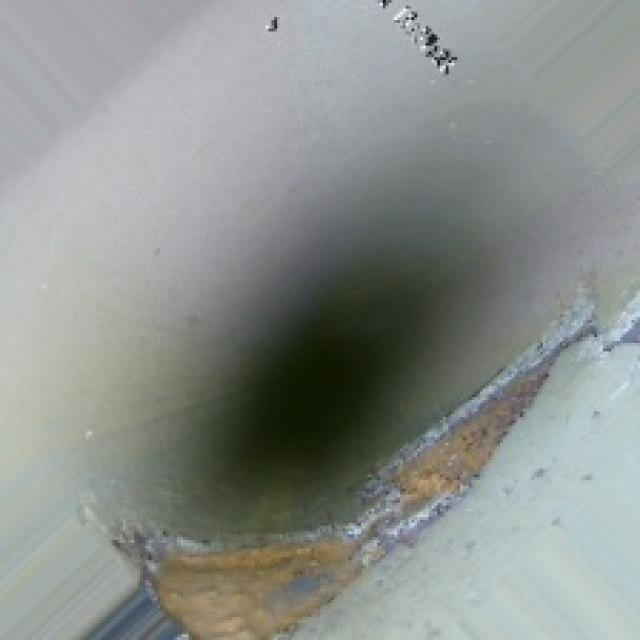pipe_surface_damage: (120, 352, 591, 632)
